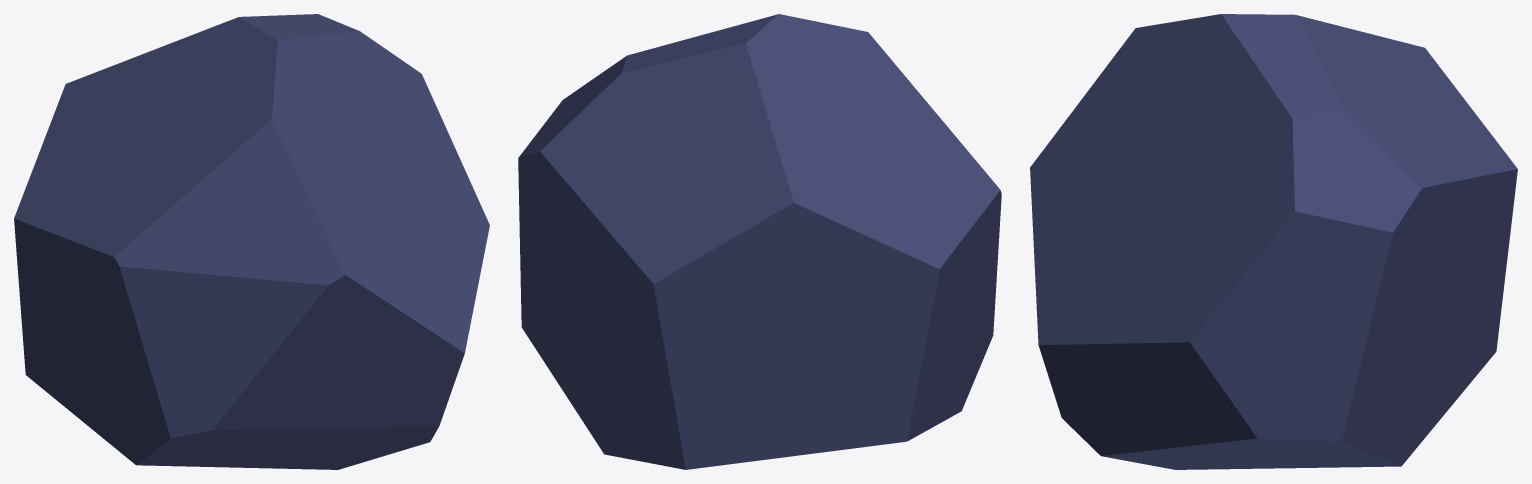
The model's file is StoneMediumLarge1.fbx.
The picture shows the model from 3 angles, left to right: view 1: azimuth 30°, elevation 25°; view 2: azimuth 150°, elevation 25°; view 3: azimuth 270°, elevation 25°; orthographic projection. The views are drawn at different scales.
Visible parts, largest first — view 1: StoneMediumLarge1; view 2: StoneMediumLarge1; view 3: StoneMediumLarge1.
Boxes of the visible parts, x1,y1,x2,y2 form: StoneMediumLarge1: (14, 14, 489, 469); StoneMediumLarge1: (518, 14, 1001, 469); StoneMediumLarge1: (1030, 14, 1517, 469).
Size of the model in its own units: 262 by 256 by 259.
Materials: 1 (1 with a texture image).
